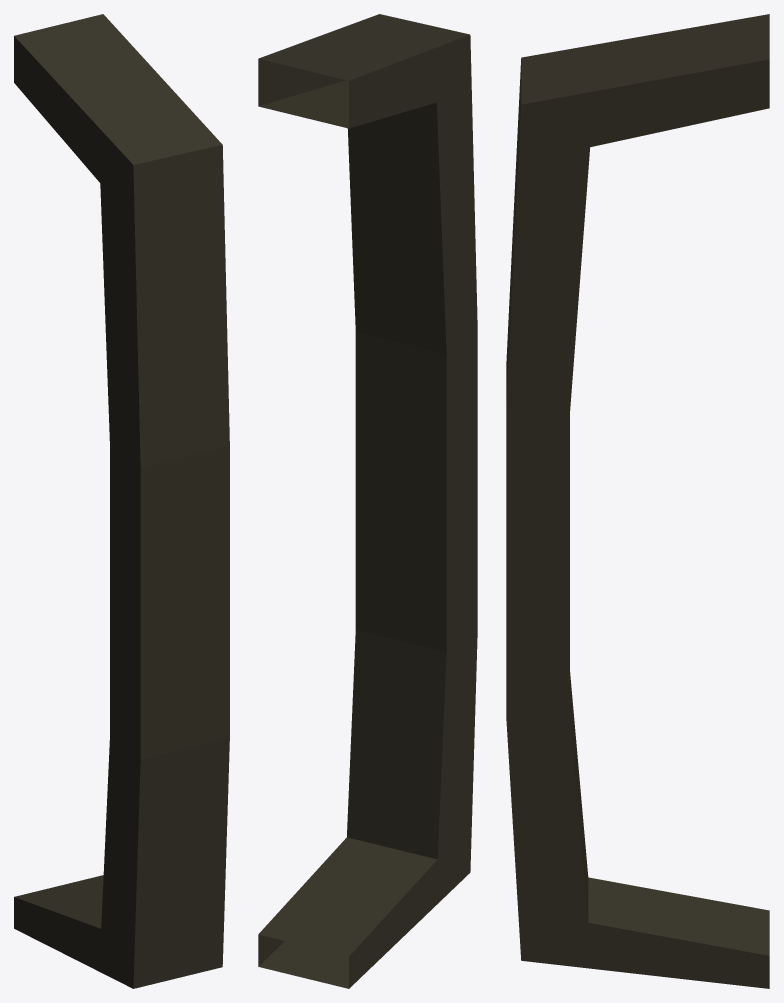
Rendered from SW_ENV_Wires3_TunnelWallTie.fbx.
3 renders of one model, left to right at view 1: azimuth 30°, elevation 25°; view 2: azimuth 150°, elevation 25°; view 3: azimuth 270°, elevation 25°, orthographic. The views are drawn at different scales.
Parts seen in each view (by area): view 1: SW_ENV_Wires3_TunnelWallTie; view 2: SW_ENV_Wires3_TunnelWallTie; view 3: SW_ENV_Wires3_TunnelWallTie.
Boxes of the visible parts, x1,y1,x2,y2 form: SW_ENV_Wires3_TunnelWallTie: (14,14,229,988); SW_ENV_Wires3_TunnelWallTie: (258,14,477,988); SW_ENV_Wires3_TunnelWallTie: (506,14,769,988).
Size of the model in its own units: 3 by 28.66 by 7.36.
